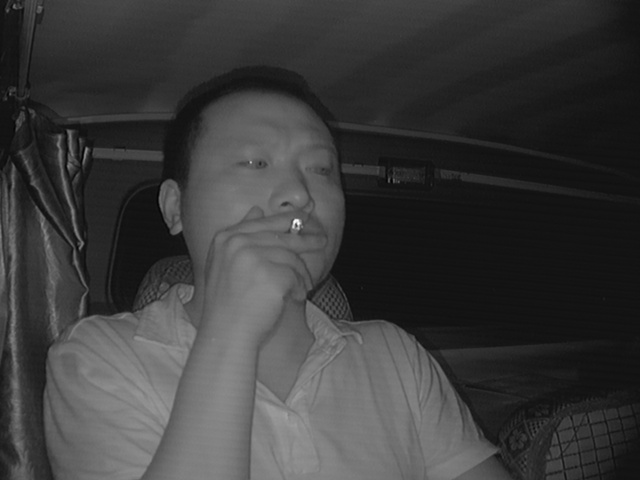hand: (230, 207, 333, 311)
